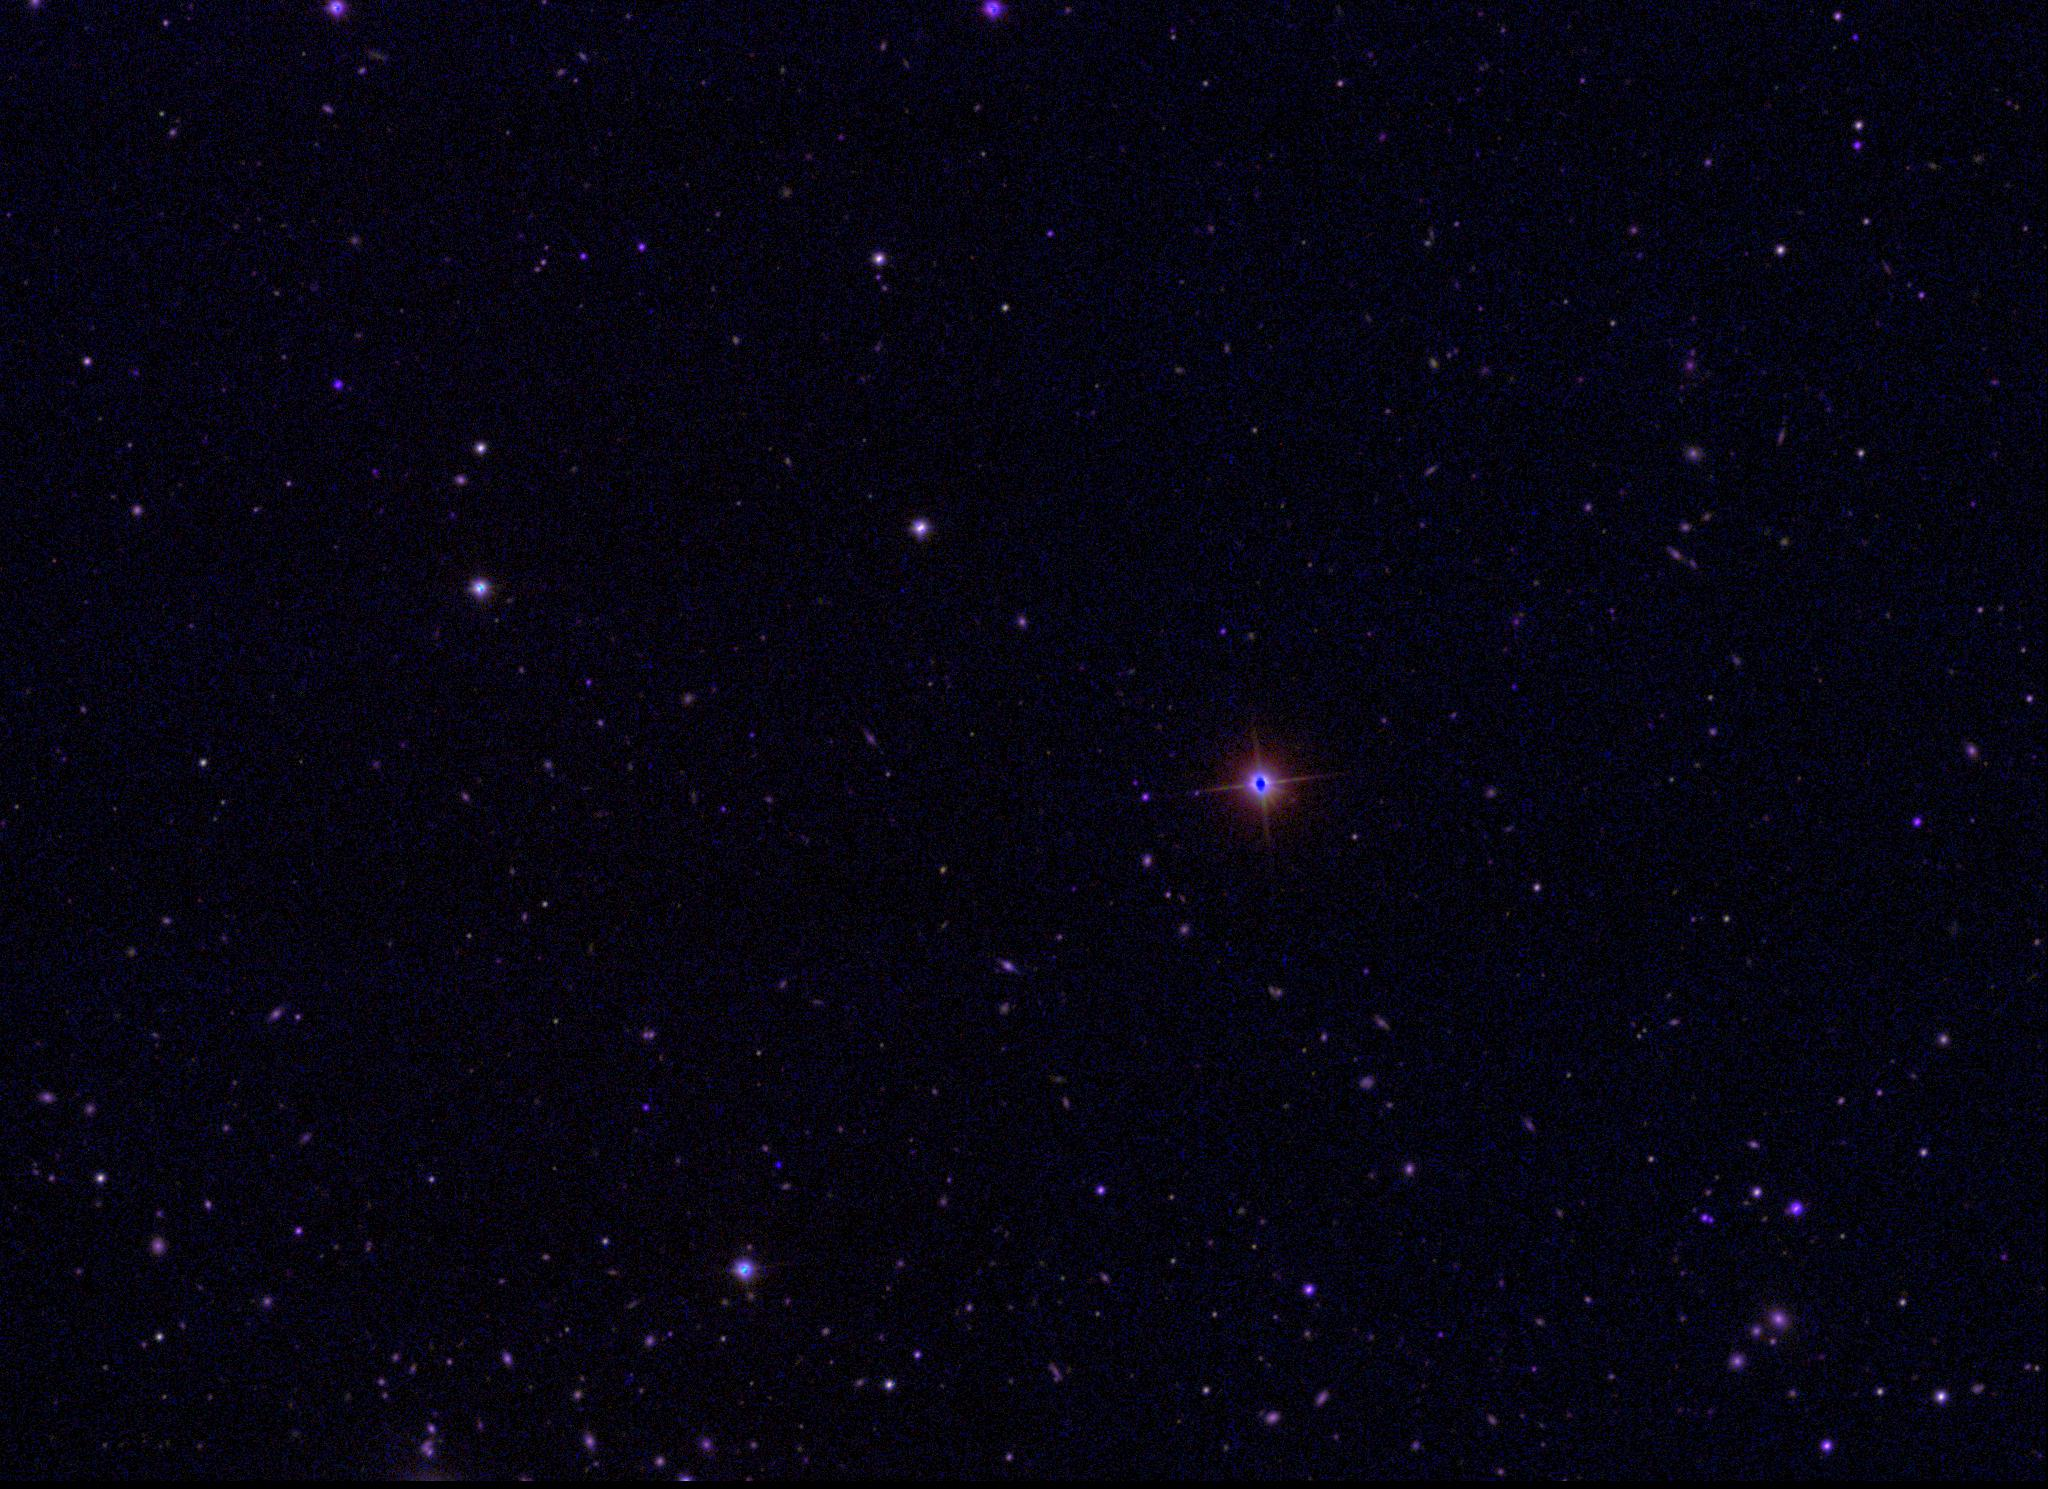L: (770, 1157, 784, 1171)
